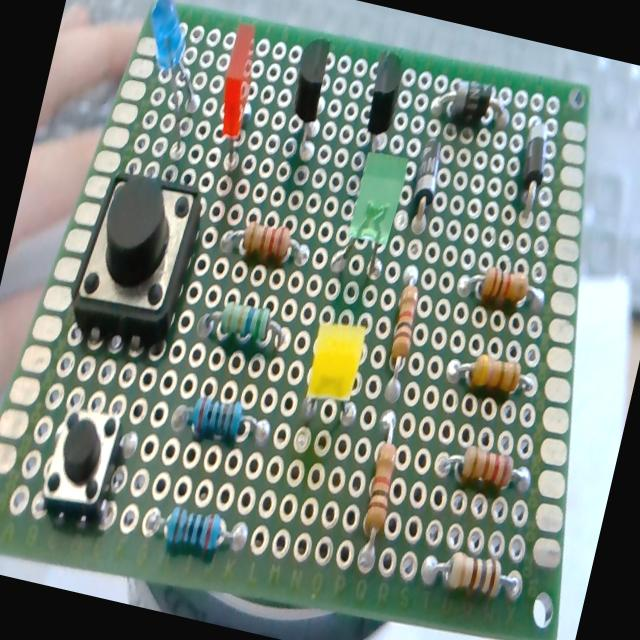diode: (398, 136, 449, 250), (429, 72, 515, 135), (508, 116, 556, 220)
led: (122, 0, 220, 144), (326, 144, 414, 287), (202, 20, 270, 176), (295, 312, 375, 433)
resistor: (140, 496, 254, 569), (352, 411, 410, 554), (170, 384, 274, 449), (419, 542, 523, 606), (376, 271, 428, 399), (197, 292, 294, 355), (436, 440, 534, 498), (219, 216, 313, 274), (444, 349, 536, 404), (458, 260, 547, 316)
switch: (62, 162, 207, 354), (34, 394, 142, 532)
transistor: (276, 32, 342, 163), (356, 48, 411, 156)
